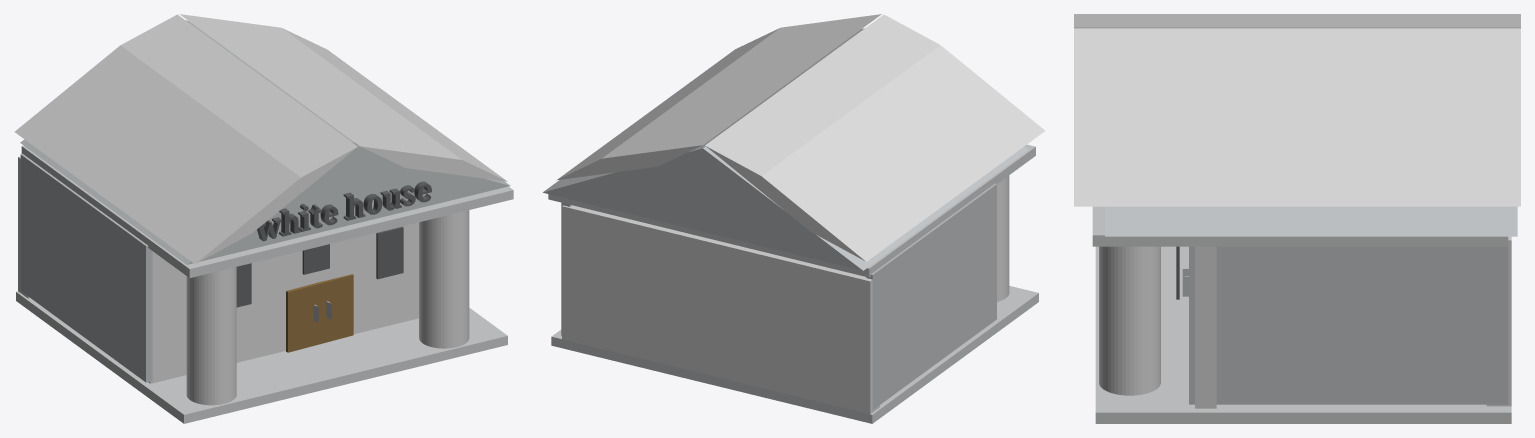
Rendered from finn's white house.glb.
3 views of the same model, side by side, from view 1: azimuth 30°, elevation 25°; view 2: azimuth 150°, elevation 25°; view 3: azimuth 270°, elevation 25° (orthographic). The views are drawn at different scales.
Parts seen in each view (by area): view 1: Mesh_Mesh_head_geo.001_lambert2SG.001; view 2: Mesh_Mesh_head_geo.001_lambert2SG.001; view 3: Mesh_Mesh_head_geo.001_lambert2SG.001.
Part boxes in pixels (x1,y1,x2,y2): Mesh_Mesh_head_geo.001_lambert2SG.001: [14, 14, 513, 423]; Mesh_Mesh_head_geo.001_lambert2SG.001: [543, 14, 1045, 423]; Mesh_Mesh_head_geo.001_lambert2SG.001: [1074, 14, 1520, 423].
Bounding box in the file's own units: 0.152 × 0.107 × 0.144.
